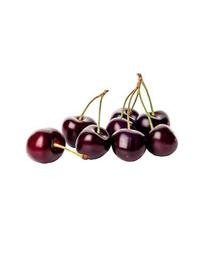cherry: (26, 128, 66, 165), (75, 125, 111, 159), (111, 129, 147, 162), (62, 115, 97, 147), (146, 124, 177, 158), (137, 109, 169, 139), (106, 119, 138, 141)
